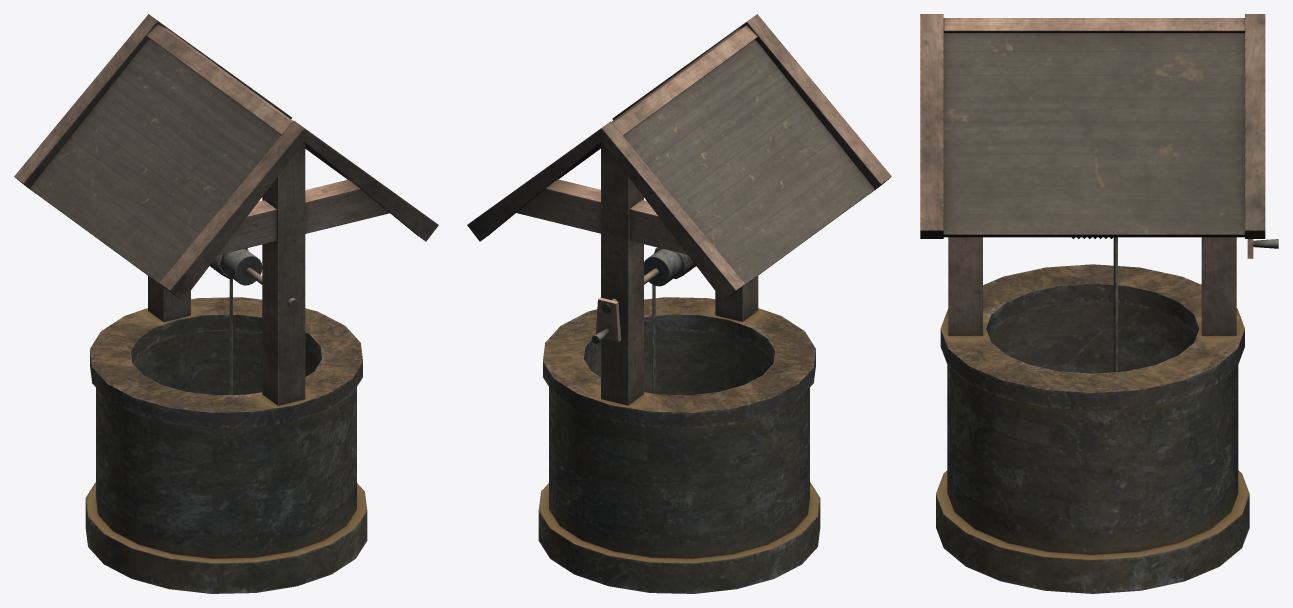
Rendered from Well.dae.
3 renders of one model, left to right at view 1: azimuth 30°, elevation 25°; view 2: azimuth 150°, elevation 25°; view 3: azimuth 270°, elevation 25°, orthographic. The views are drawn at different scales.
Visible parts, largest first — view 1: Well_polySurface5014; view 2: Well_polySurface5014; view 3: Well_polySurface5014.
Part boxes in pixels (left/top/right/bottom): Well_polySurface5014: left=14, top=14, right=438, bottom=593; Well_polySurface5014: left=467, top=14, right=891, bottom=593; Well_polySurface5014: left=920, top=14, right=1278, bottom=593.
Size of the model in its own units: 2.32 by 3.82 by 2.42.
